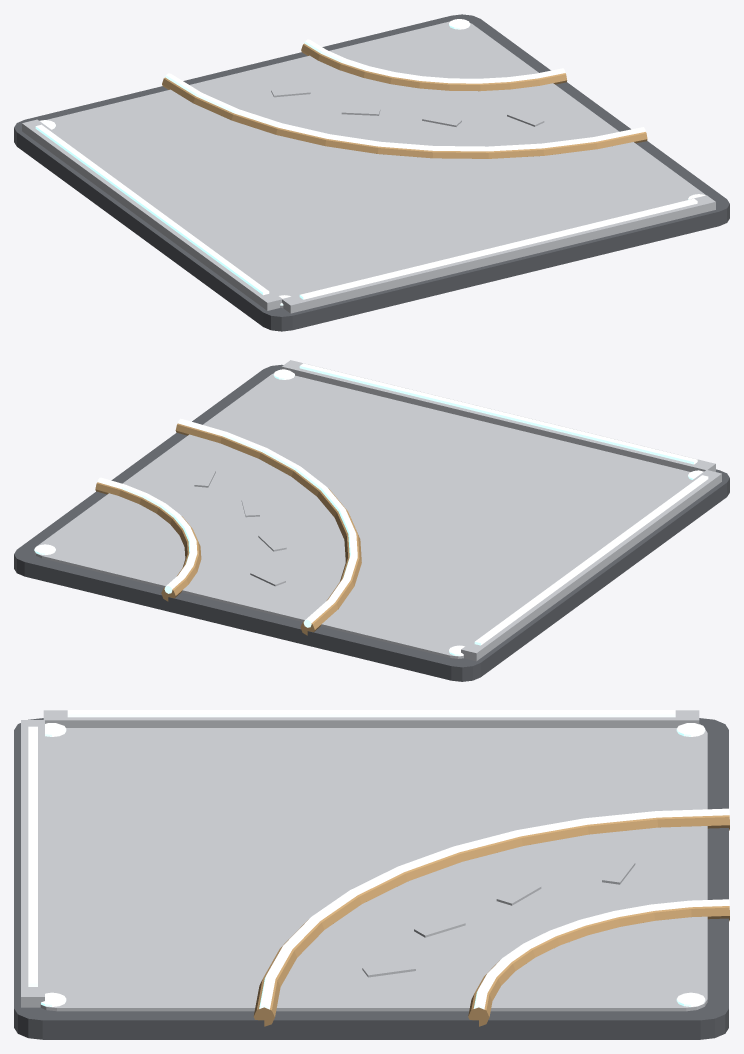
File: hover-transit-and-antigrav-fleet-repulsor-road-plate-c-98d24400__17101.glb
The picture shows the model from 3 angles, top to bottom: view 1: azimuth 30°, elevation 25°; view 2: azimuth 150°, elevation 25°; view 3: azimuth 270°, elevation 25°; orthographic projection. The views are drawn at different scales.
Parts seen in each view (by area): view 1: repulsor-road-plate-corner; view 2: repulsor-road-plate-corner; view 3: repulsor-road-plate-corner.
Boxes of the visible parts, x1,y1,x2,y2 form: repulsor-road-plate-corner: [14, 14, 729, 331]; repulsor-road-plate-corner: [14, 360, 729, 681]; repulsor-road-plate-corner: [14, 710, 729, 1039].
Bounding box in the file's own units: 6.01 × 0.3201 × 6.01.
